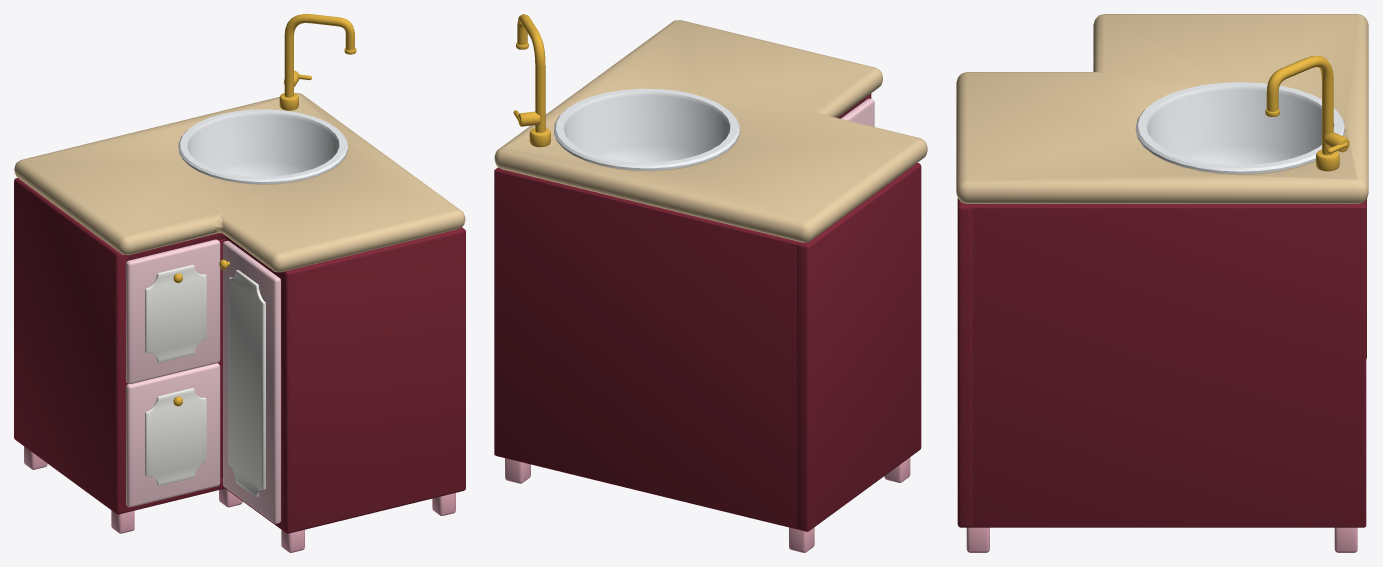
The model's file is armario_cozinha_canto_pia_classica_vinho.glb.
3 views of the same model, side by side, from view 1: azimuth 30°, elevation 25°; view 2: azimuth 150°, elevation 25°; view 3: azimuth 270°, elevation 25° (orthographic). The views are drawn at different scales.
Parts seen in each view (by area): view 1: armario_cozinha_canto_pia_classica_vinho, porta_1, gaveta_1, gaveta_2; view 2: armario_cozinha_canto_pia_classica_vinho, porta_1; view 3: armario_cozinha_canto_pia_classica_vinho.
Part boxes in pixels (bbox=[...]): armario_cozinha_canto_pia_classica_vinho: bbox=[14, 14, 465, 552]; porta_1: bbox=[219, 240, 280, 523]; gaveta_1: bbox=[126, 239, 220, 384]; gaveta_2: bbox=[126, 363, 220, 507]; armario_cozinha_canto_pia_classica_vinho: bbox=[494, 14, 927, 552]; porta_1: bbox=[840, 98, 874, 126]; armario_cozinha_canto_pia_classica_vinho: bbox=[956, 14, 1368, 552].
Size of the model in its own units: 0.946 by 1.18 by 0.899.
1 material, 1 textured.
